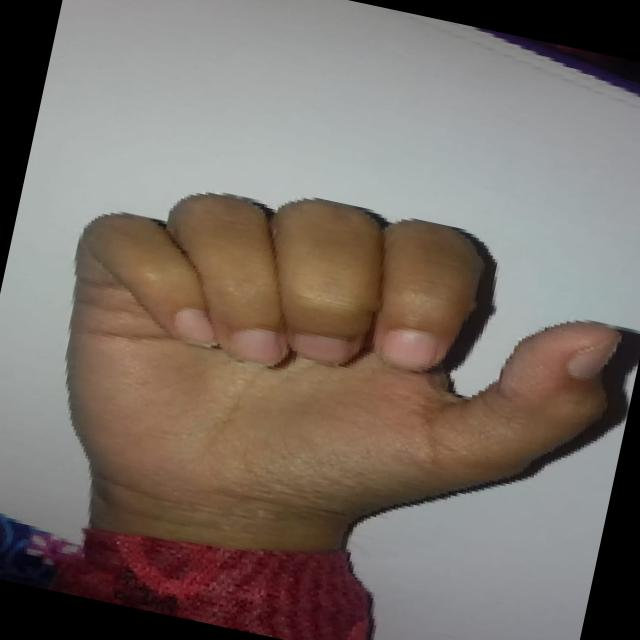Nail: (381, 327, 436, 369), (566, 338, 615, 377), (230, 327, 279, 362), (293, 333, 345, 362), (173, 307, 212, 342)
